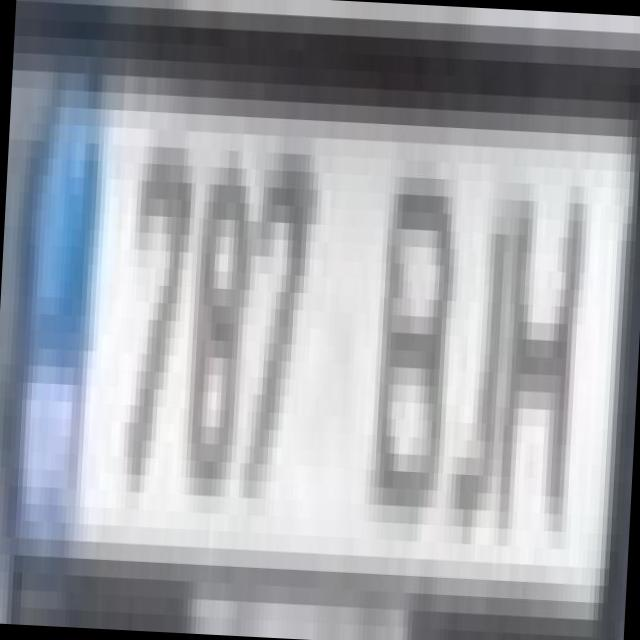7: (100, 110, 196, 477), (226, 117, 317, 483)
8: (166, 114, 254, 498)
B: (351, 123, 470, 509)
H: (472, 147, 600, 533)
